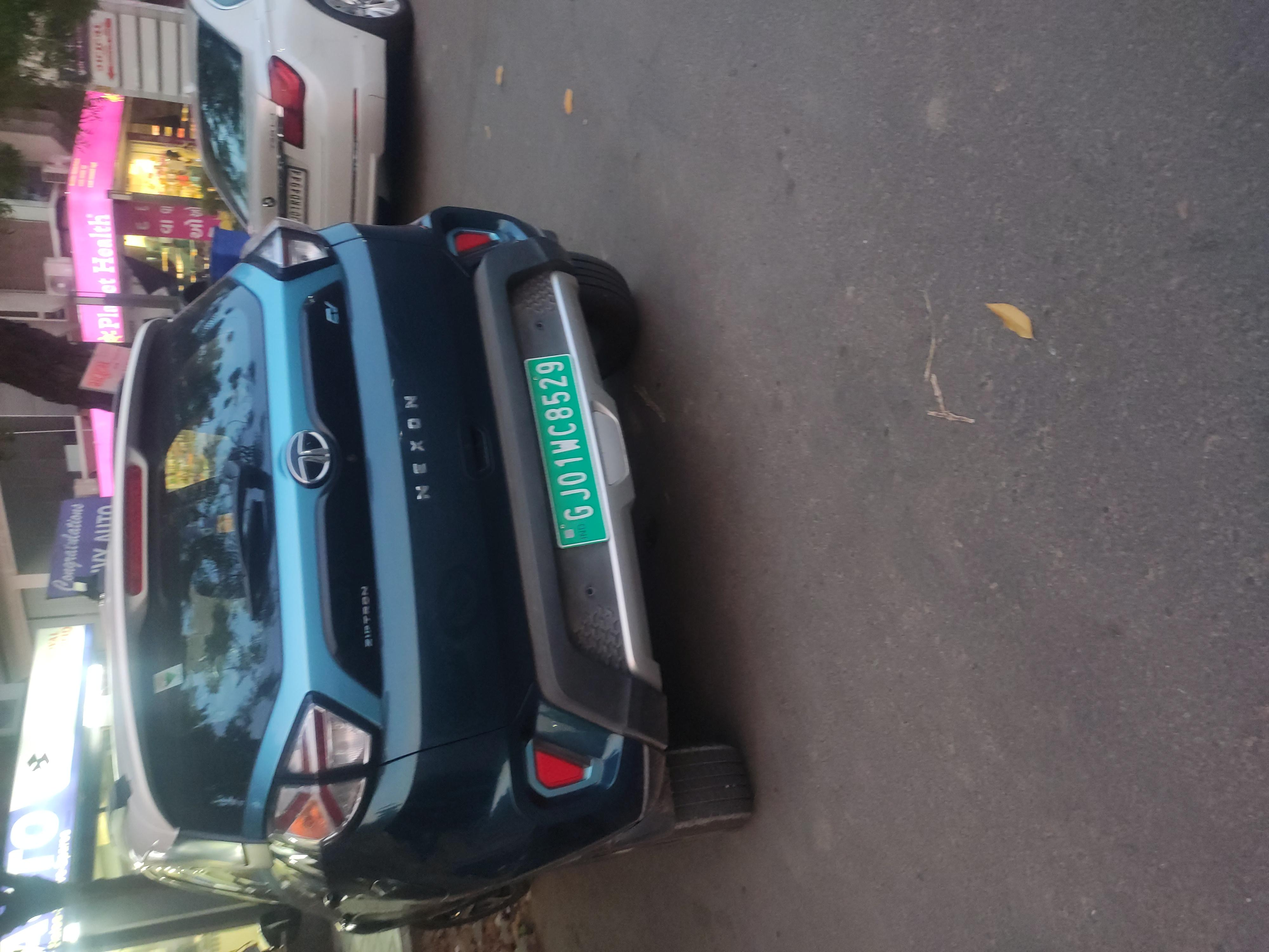green license plate: (527, 390, 812, 457)
